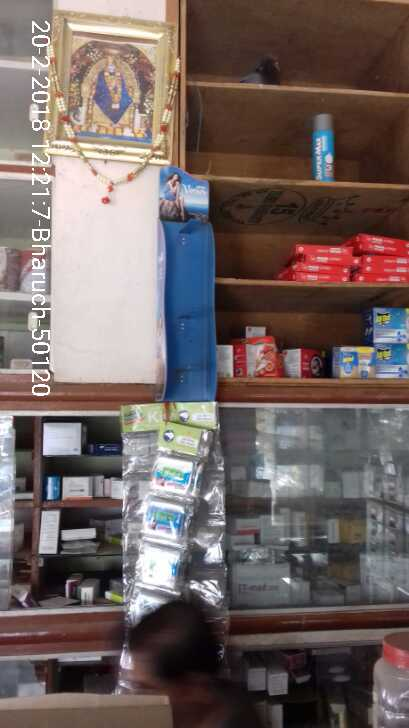reject: (201, 234, 268, 322)
